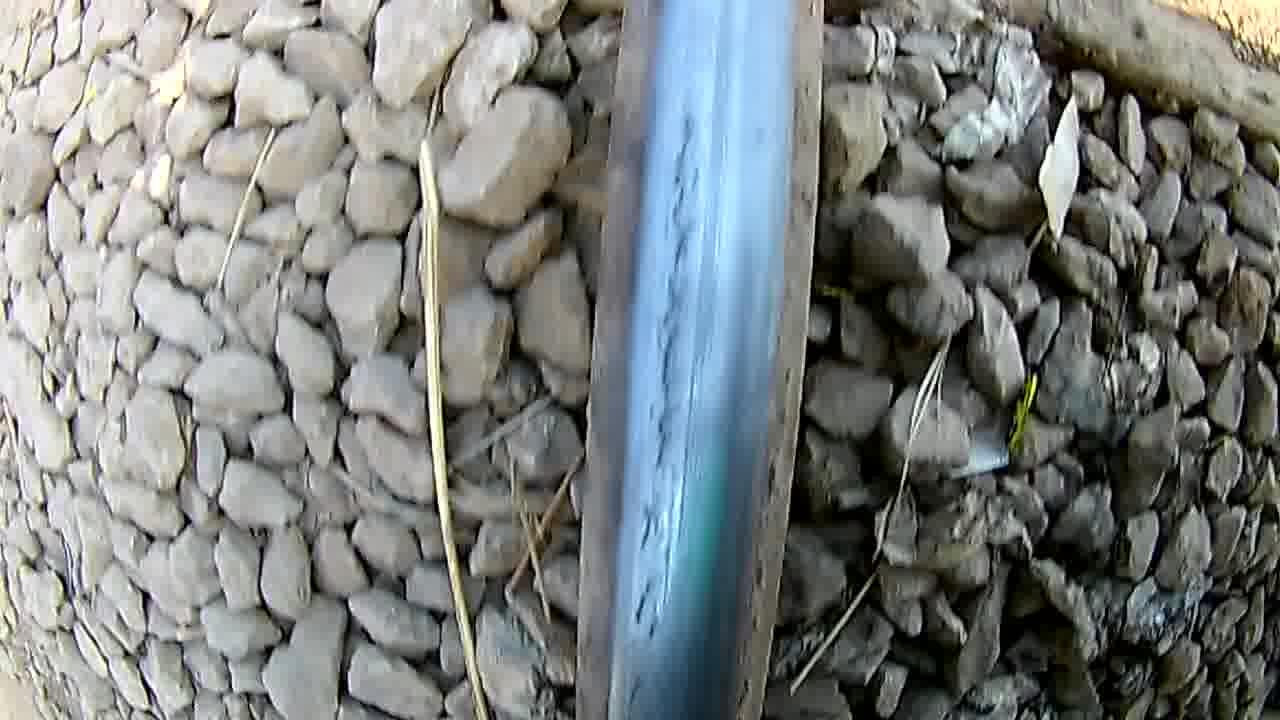normal_track: (626, 112, 719, 702)
